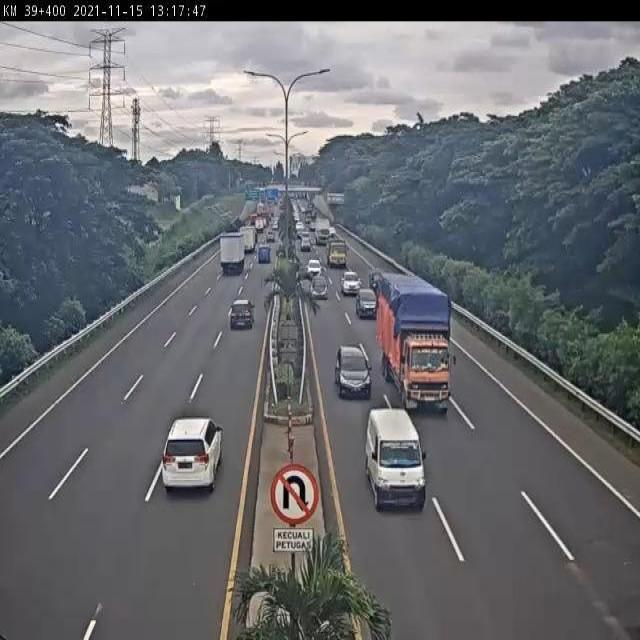Car: (162, 417, 223, 493), (333, 343, 373, 403), (229, 299, 255, 330), (355, 287, 377, 319), (310, 274, 329, 300), (341, 271, 361, 295), (306, 258, 322, 278), (301, 238, 311, 252)
Truck: (374, 273, 459, 416), (219, 233, 245, 273), (326, 238, 348, 270), (314, 218, 330, 245)
Van: (364, 408, 426, 510)
